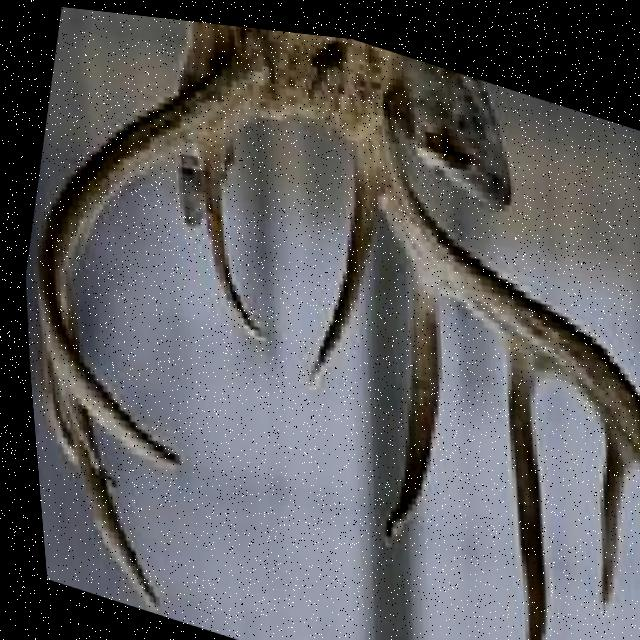L-F: (334, 90, 640, 462)
L-G1: (302, 153, 375, 382)
L-G2: (374, 244, 435, 531)
L-G3: (499, 322, 537, 640)
L-G4: (590, 409, 626, 596)
R-F: (32, 22, 267, 467)
R-G1: (191, 133, 259, 337)
